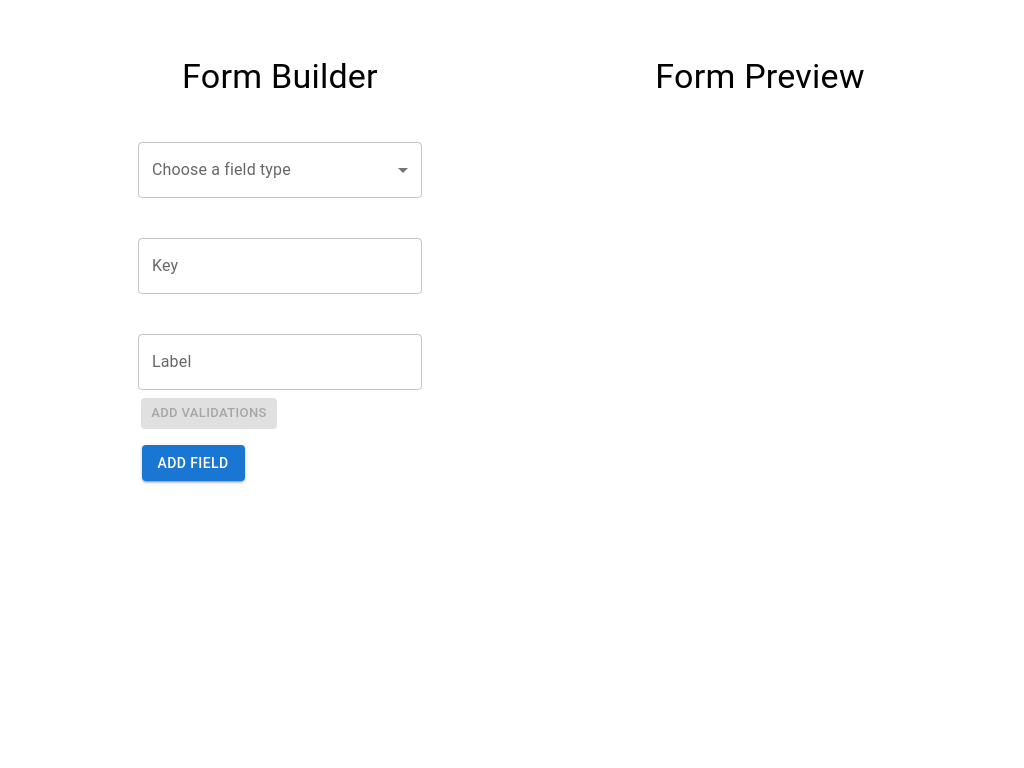
renders validator modal component with 5 static rules.
The width and height of the screenshot is (1024, 768).
Click the dropdown at [280, 170], box [138,142,422,198]
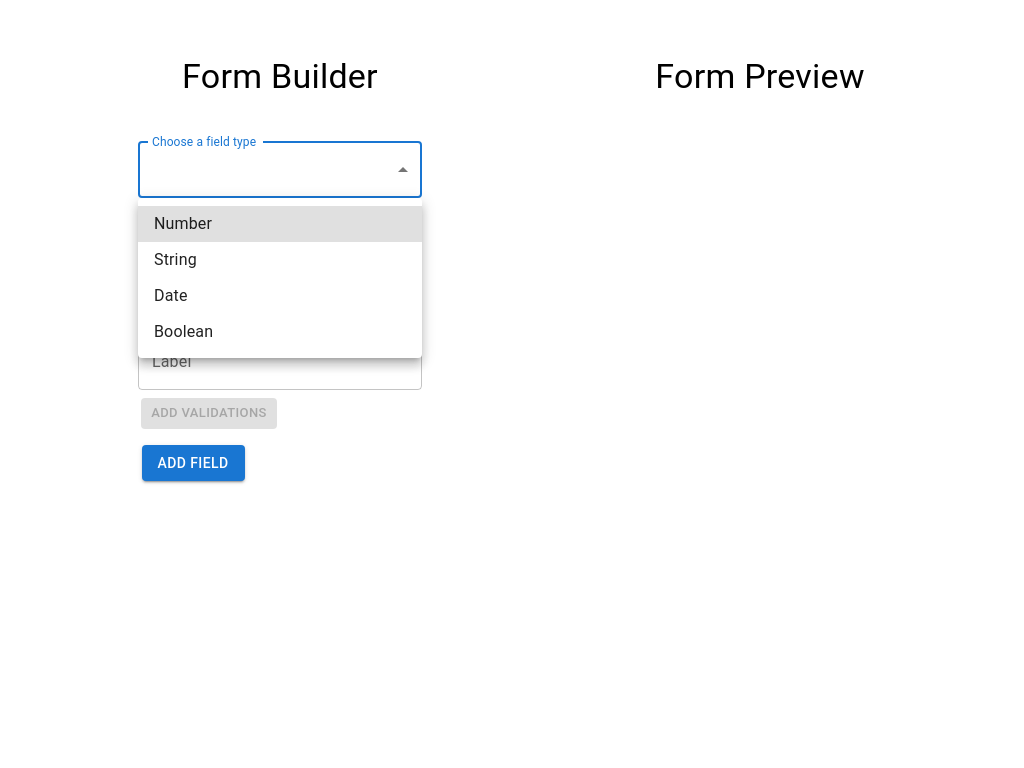
Click the option "String" at [175, 260], box [154,250,197,269]
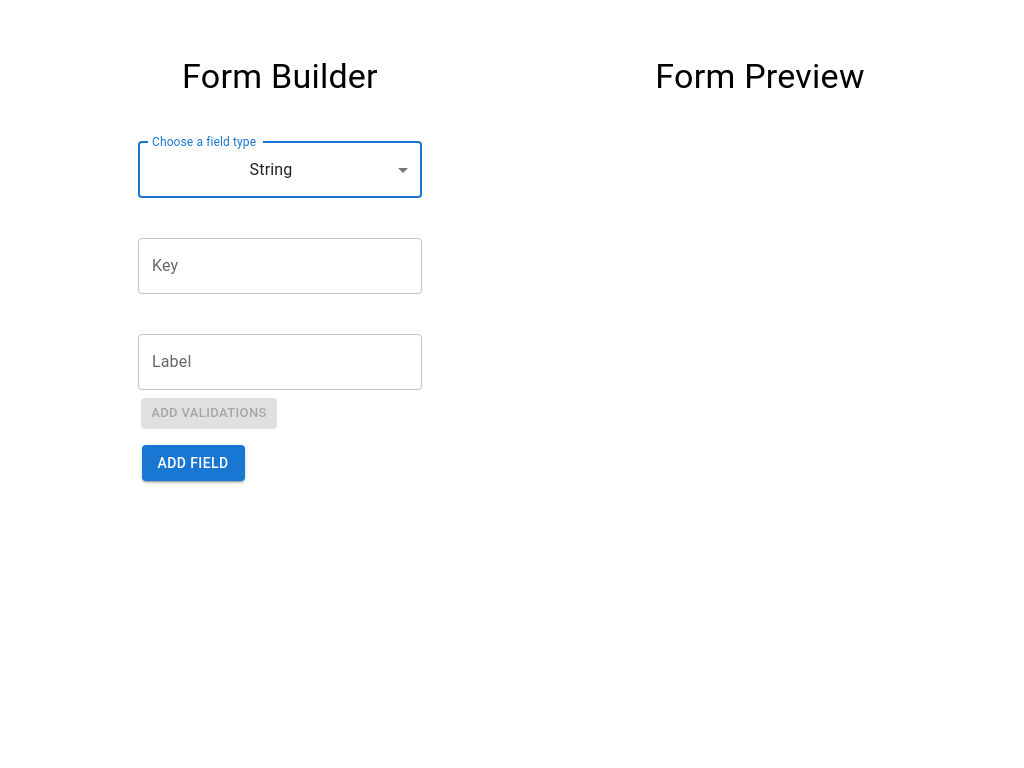
Type "testfield" into the field labelled "Key" at [280, 266], box [138,238,422,294]
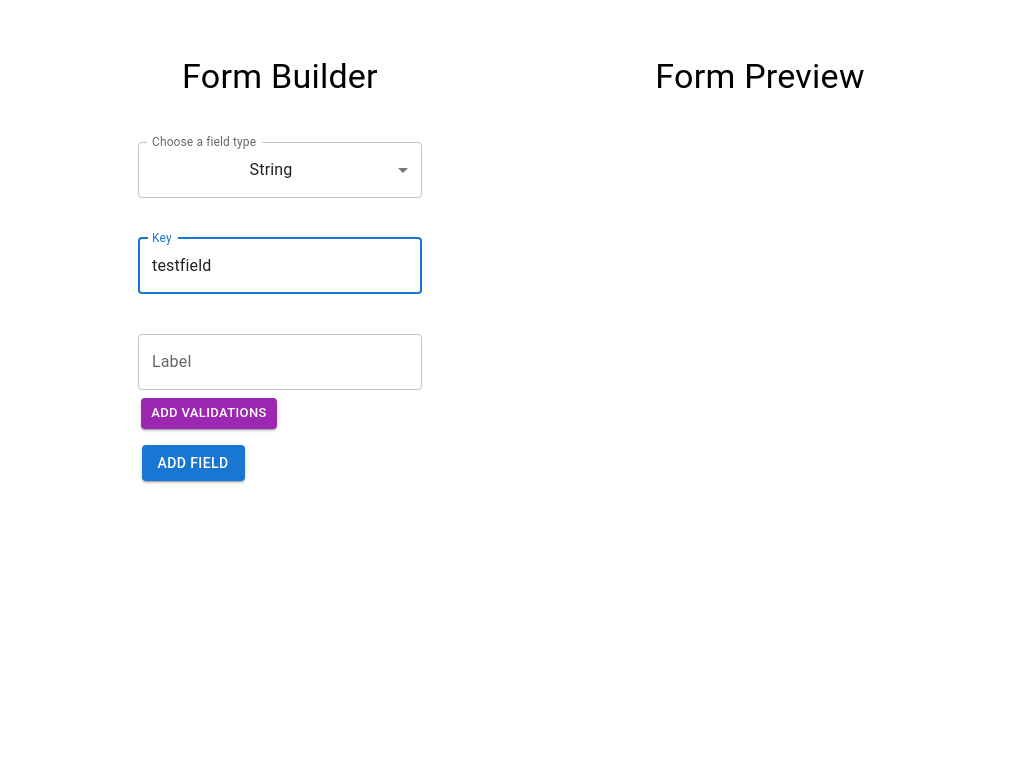
Type "testfieldlabel" into the field labelled "Label" at [280, 362], box [138,334,422,390]
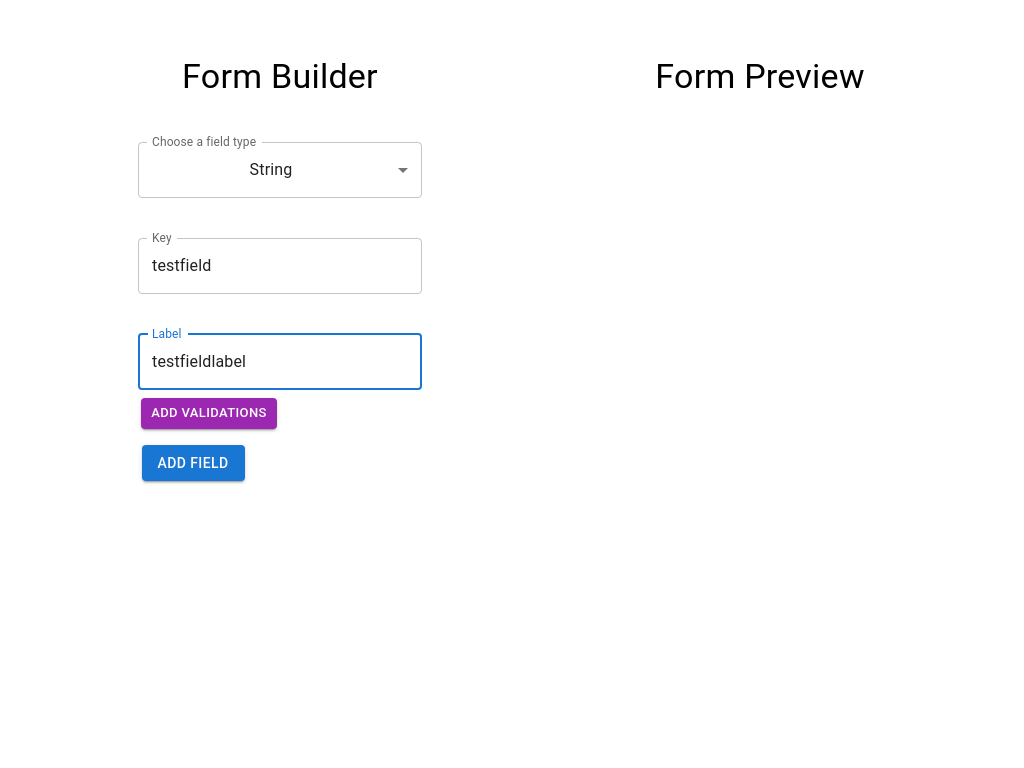
Click the button with test id "add-validations" at [209, 413], box [141,398,277,429]
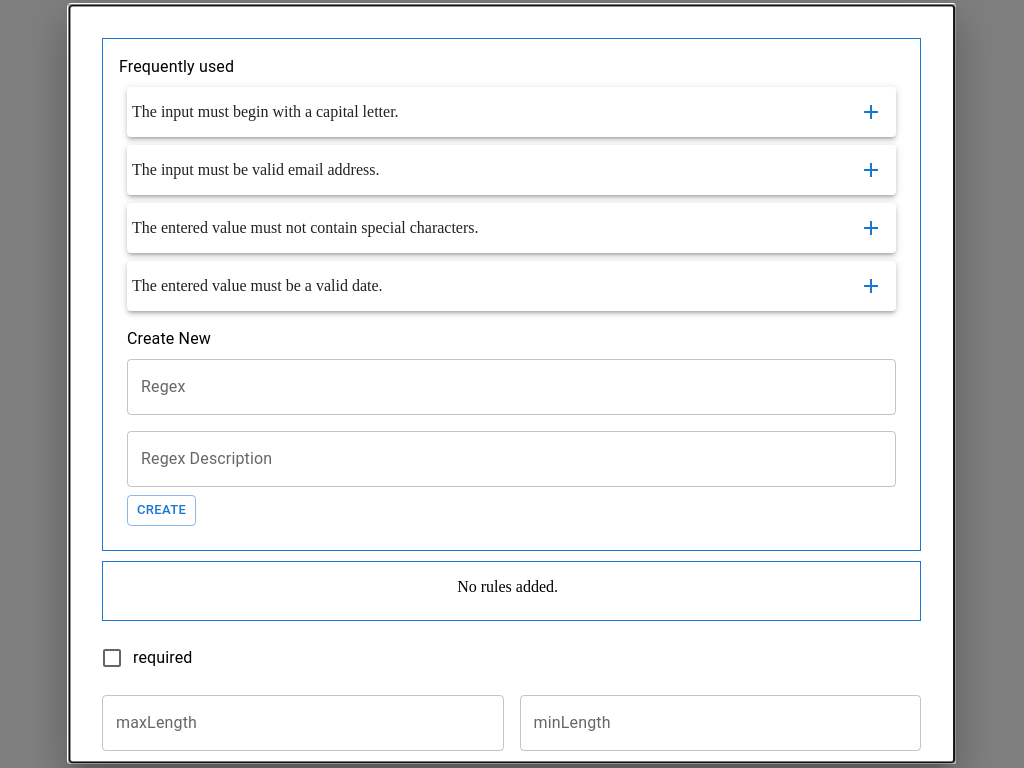
Expected: the number of buttons with test id "add-rule" is 4, [852,92,892,132]; [852,150,892,190]; [852,208,892,248]; [852,266,892,306]
